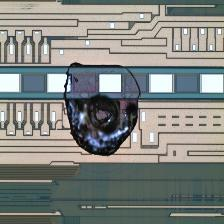PARTICLE: (62, 61, 145, 160)
